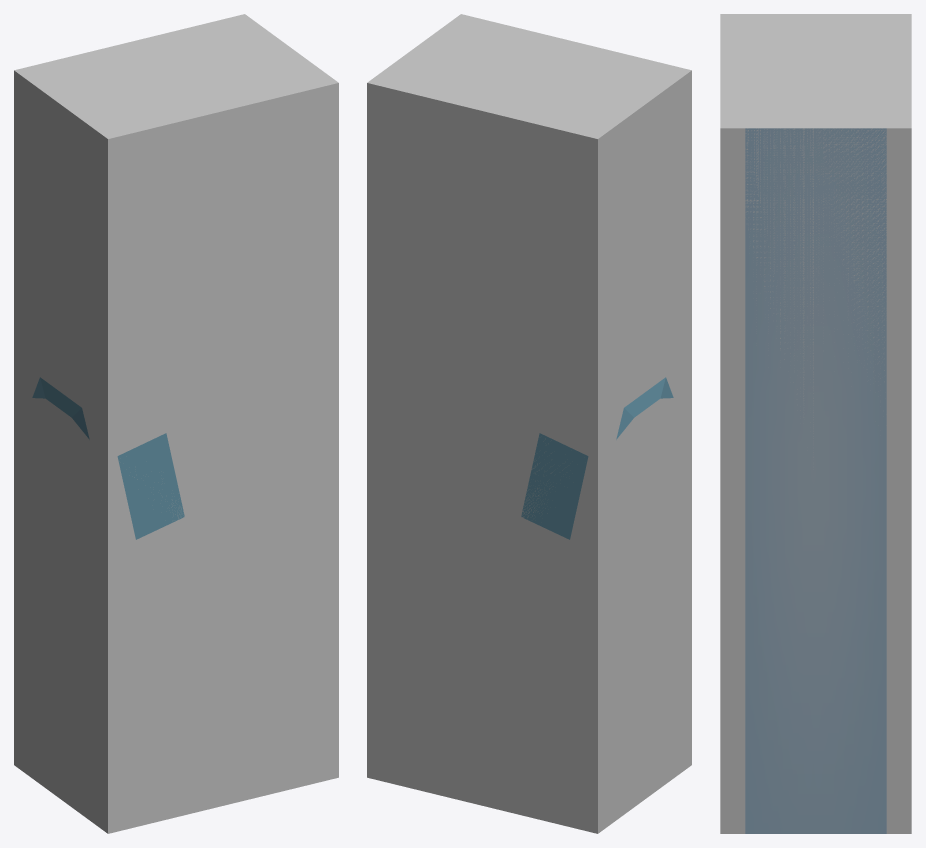
File: SM_Interior_Light.fbx
The picture shows the model from 3 angles, left to right: view 1: azimuth 30°, elevation 25°; view 2: azimuth 150°, elevation 25°; view 3: azimuth 270°, elevation 25°; orthographic projection.
Parts seen in each view (by area): view 1: SM_Interior_Light_ConvexHulls, SM_Interior_Light; view 2: SM_Interior_Light_ConvexHulls, SM_Interior_Light; view 3: SM_Interior_Light, SM_Interior_Light_ConvexHulls.
Boxes of the visible parts, x1,y1,x2,y2 form: SM_Interior_Light_ConvexHulls: [14, 14, 338, 833]; SM_Interior_Light: [32, 377, 184, 539]; SM_Interior_Light_ConvexHulls: [367, 14, 691, 833]; SM_Interior_Light: [521, 377, 673, 539]; SM_Interior_Light: [745, 128, 886, 833]; SM_Interior_Light_ConvexHulls: [720, 14, 911, 833].
Size of the model in its own units: 77.31 by 54 by 220.
2 materials, 1 textured.
